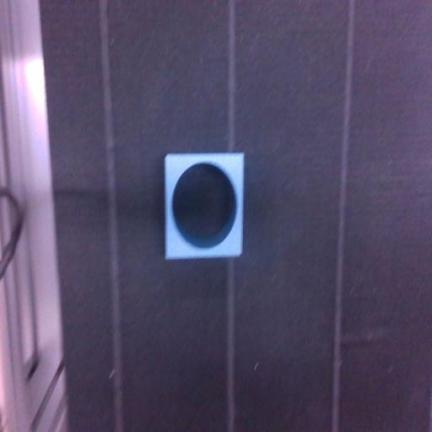hole: (165, 153, 243, 259)
